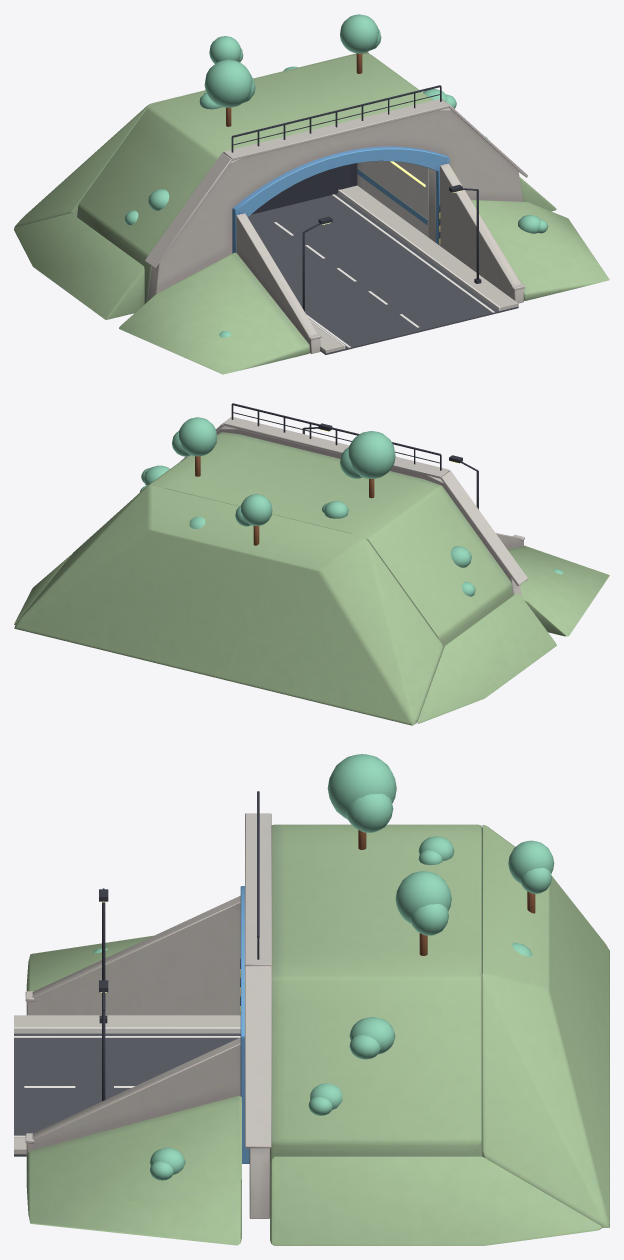
The model's file is tunnel-entrance.glb.
3 views of the same model, one above another, from view 1: azimuth 30°, elevation 25°; view 2: azimuth 150°, elevation 25°; view 3: azimuth 270°, elevation 25° (orthographic). The views are drawn at different scales.
Parts seen in each view (by area): view 1: tunnel-entrance_body, tunnel-entrance_details; view 2: tunnel-entrance_body, tunnel-entrance_details; view 3: tunnel-entrance_body, tunnel-entrance_details.
Part boxes in pixels (<box>): tunnel-entrance_body: <box>14,52,609,374</box>; tunnel-entrance_details: <box>124,14,548,354</box>; tunnel-entrance_body: <box>14,417,609,725</box>; tunnel-entrance_details: <box>139,403,563,596</box>; tunnel-entrance_body: <box>25,813,609,1245</box>; tunnel-entrance_details: <box>14,754,554,1180</box>.
Size of the model in its own units: 29.06 by 12.18 by 23.27.
Materials: 9 (1 with a texture image).
